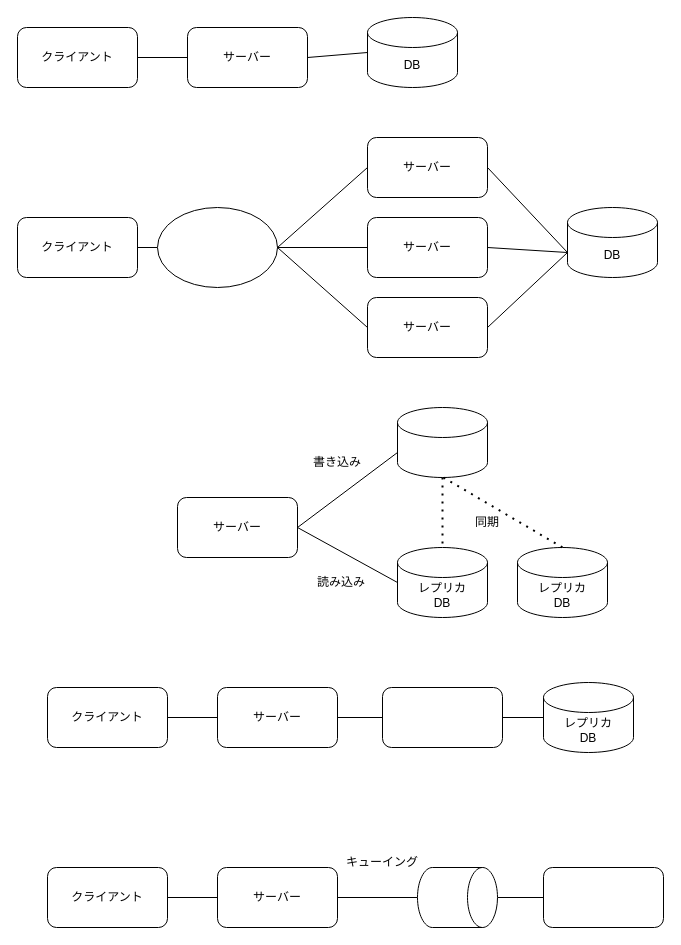
Some shapes in this 681 by 945 pixel diagram are drawn without their labels. The shapes that lost their labels are listed below. From the top down, each one's centre as x and y in pixels, then its label:
At point 217,247: "ロードバランサー".
At point 442,442: "ソース DB".
At point 442,717: "キャッシュ".
At point 603,897: "ワーカー".
